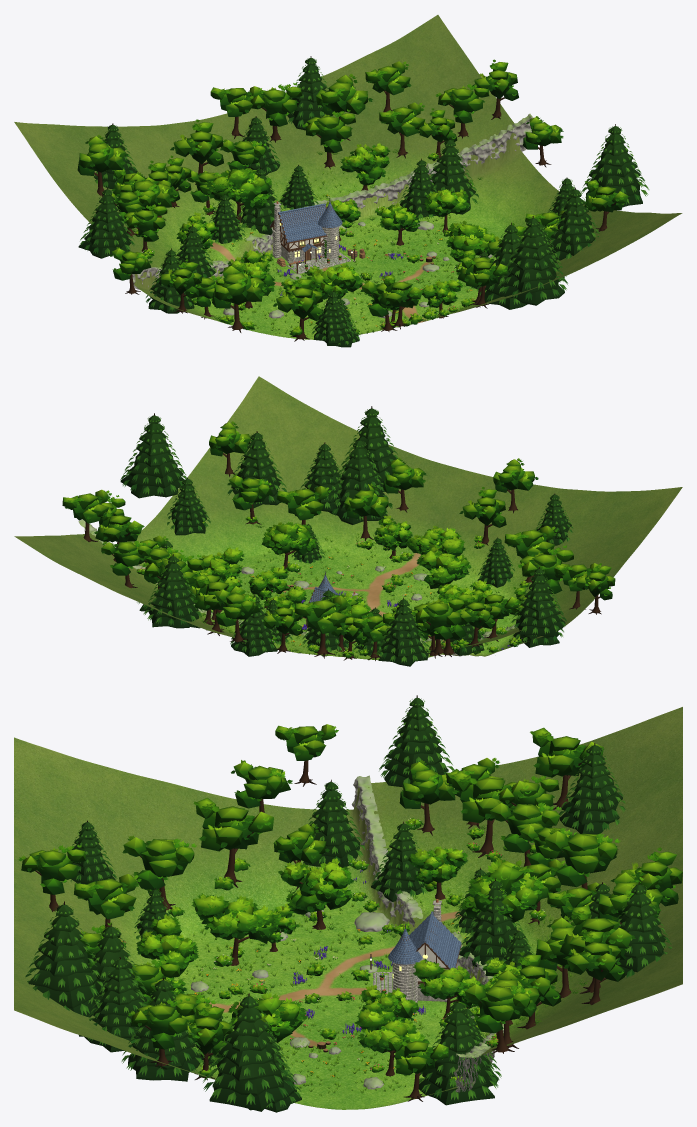
Rendered from sunlit_hollow.glb.
3 renders of one model, top to bottom at view 1: azimuth 30°, elevation 25°; view 2: azimuth 150°, elevation 25°; view 3: azimuth 270°, elevation 25°, orthographic. The views are drawn at different scales.
Parts seen in each view (by area): view 1: 地形, 小屋, 針葉樹.007, 針葉樹.018, 針葉樹.014, 針葉樹.011, 広葉樹.006, 広葉樹.012, 針葉樹.008, 針葉樹.006, 広葉樹.030, 広葉樹.014 (+48 smaller); view 2: 地形, 針葉樹.018, 針葉樹.006, 針葉樹.014, 針葉樹.017, 針葉樹.015, 針葉樹.011, 広葉樹, 針葉樹.007, 針葉樹.010, 広葉樹.030, 広葉樹.039 (+37 smaller); view 3: 地形, 針葉樹.018, 針葉樹.007, 針葉樹.008, 小屋, 針葉樹.015, 針葉樹.014, 針葉樹.011, 広葉樹, 広葉樹.003, 広葉樹.006, 広葉樹.012 (+47 smaller).
Part boxes in pixels (bbox=[...]): 地形: bbox=[14, 15, 682, 339]; 小屋: bbox=[270, 198, 342, 263]; 針葉樹.007: bbox=[498, 216, 567, 305]; 針葉樹.018: bbox=[581, 124, 649, 207]; 針葉樹.014: bbox=[78, 187, 134, 258]; 針葉樹.011: bbox=[549, 187, 599, 260]; 広葉樹.006: bbox=[206, 168, 272, 223]; 広葉樹.012: bbox=[212, 264, 267, 332]; 針葉樹.008: bbox=[430, 138, 478, 214]; 針葉樹.006: bbox=[285, 56, 338, 130]; 広葉樹.030: bbox=[170, 119, 223, 184]; 広葉樹.014: bbox=[302, 109, 355, 169]; 地形: bbox=[14, 376, 682, 660]; 針葉樹.018: bbox=[120, 413, 187, 498]; 針葉樹.006: bbox=[143, 554, 202, 628]; 針葉樹.014: bbox=[511, 567, 566, 637]; 針葉樹.017: bbox=[329, 438, 392, 524]; 針葉樹.015: bbox=[377, 597, 430, 666]; 針葉樹.011: bbox=[227, 431, 287, 507]; 広葉樹: bbox=[416, 536, 471, 588]; 針葉樹.007: bbox=[338, 406, 398, 491]; 針葉樹.010: bbox=[167, 477, 210, 535]; 広葉樹.030: bbox=[294, 595, 351, 658]; 広葉樹.039: bbox=[412, 595, 464, 655]; 地形: bbox=[14, 707, 682, 1109]; 針葉樹.018: bbox=[203, 993, 294, 1111]; 針葉樹.007: bbox=[25, 901, 102, 1017]; 針葉樹.008: bbox=[419, 1000, 499, 1105]; 小屋: bbox=[388, 899, 461, 1002]; 針葉樹.015: bbox=[559, 743, 625, 834]; 針葉樹.014: bbox=[379, 695, 454, 787]; 針葉樹.011: bbox=[121, 977, 204, 1081]; 広葉樹: bbox=[191, 893, 279, 965]; 広葉樹.003: bbox=[278, 858, 354, 929]; 広葉樹.006: bbox=[460, 858, 544, 922]; 広葉樹.012: bbox=[193, 797, 273, 887].
Size of the model in its own units: 96.01 by 22.48 by 80.01.
Materials: 17 (7 with a texture image).
